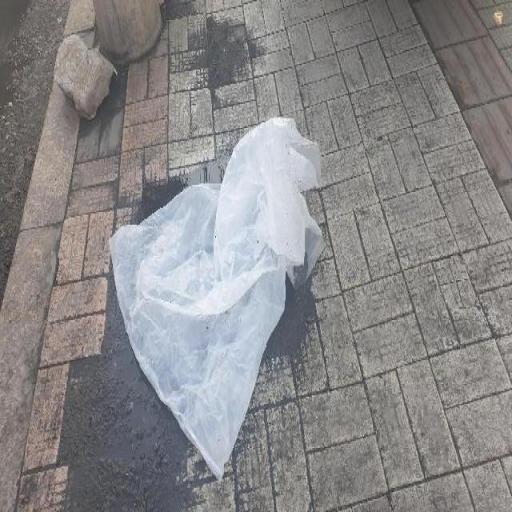polythene: (110, 117, 321, 478)
